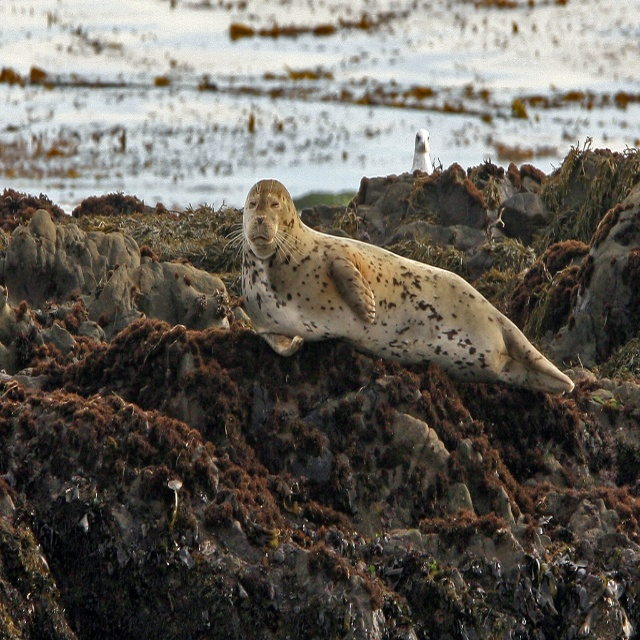Harbor seal: (229, 176, 582, 404)
